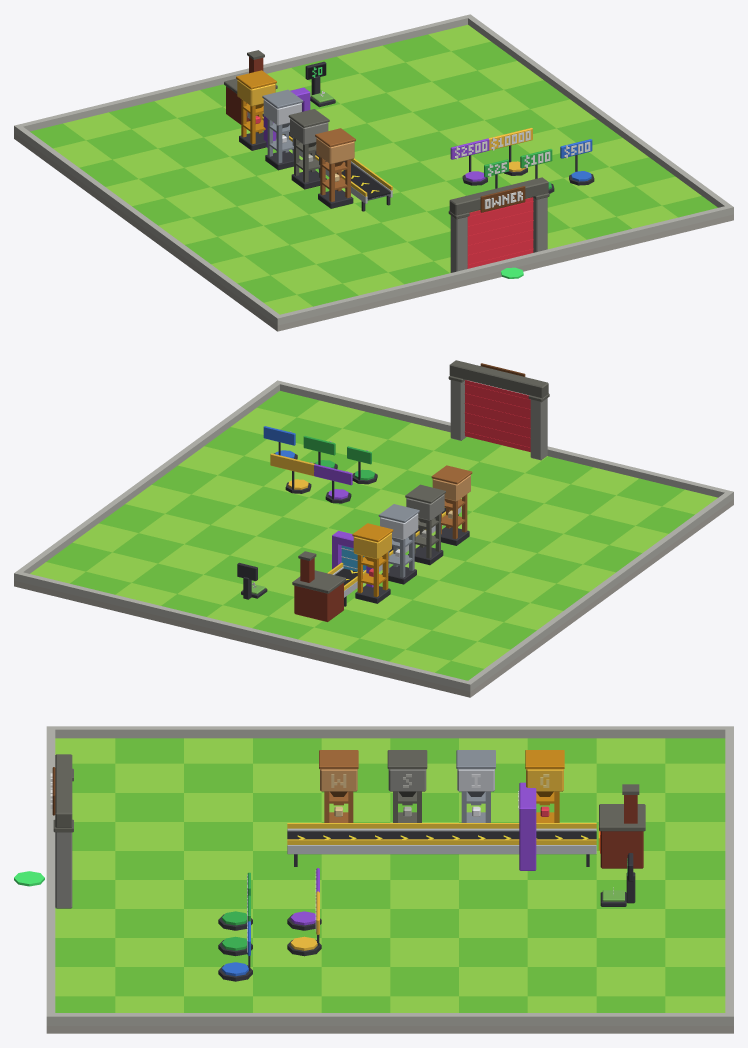
File: DropperTycoonPlot.fbx
The picture shows the model from 3 angles, top to bottom: view 1: azimuth 30°, elevation 25°; view 2: azimuth 150°, elevation 25°; view 3: azimuth 270°, elevation 25°; orthographic projection. The views are drawn at different scales.
Parts seen in each view (by area): view 1: DropperTycoonPlot, DropperTycoonPlot_Laser, DropperTycoonPlot_Dropper1, DropperTycoonPlot_Dropper2, DropperTycoonPlot_Dropper3, DropperTycoonPlot_Dropper4, DropperTycoonPlot_Button5, DropperTycoonPlot_Button4, DropperTycoonPlot_Button, DropperTycoonPlot_Belt, DropperTycoonPlot_Button3, DropperTycoonPlot_Collector (+1 smaller); view 2: DropperTycoonPlot, DropperTycoonPlot_Laser, DropperTycoonPlot_Dropper4, DropperTycoonPlot_Dropper2, DropperTycoonPlot_Dropper3, DropperTycoonPlot_Dropper1, DropperTycoonPlot_Button, DropperTycoonPlot_Button5, DropperTycoonPlot_Button4, DropperTycoonPlot_Collector, DropperTycoonPlot_Upgrader; view 3: DropperTycoonPlot, DropperTycoonPlot_Belt, DropperTycoonPlot_Dropper2, DropperTycoonPlot_Dropper1, DropperTycoonPlot_Dropper3, DropperTycoonPlot_Dropper4, DropperTycoonPlot_Button, DropperTycoonPlot_Upgrader, DropperTycoonPlot_Collector.
Boxes of the visible parts, box(x1,y1,x2,y2) form: DropperTycoonPlot: box(14, 14, 733, 331); DropperTycoonPlot_Laser: box(467, 197, 533, 268); DropperTycoonPlot_Dropper1: box(315, 128, 355, 208); DropperTycoonPlot_Dropper2: box(288, 109, 329, 189); DropperTycoonPlot_Dropper3: box(262, 89, 303, 170); DropperTycoonPlot_Dropper4: box(236, 70, 276, 150); DropperTycoonPlot_Button5: box(488, 128, 532, 175); DropperTycoonPlot_Button4: box(450, 138, 489, 185); DropperTycoonPlot_Button: box(311, 91, 591, 189); DropperTycoonPlot_Belt: box(262, 112, 390, 199); DropperTycoonPlot_Button3: box(560, 139, 594, 185); DropperTycoonPlot_Collector: box(305, 61, 335, 107); DropperTycoonPlot: box(14, 360, 733, 697); DropperTycoonPlot_Laser: box(341, 380, 530, 571); DropperTycoonPlot_Dropper4: box(352, 523, 393, 603); DropperTycoonPlot_Dropper2: box(405, 484, 445, 565); DropperTycoonPlot_Dropper3: box(378, 504, 419, 584); DropperTycoonPlot_Dropper1: box(431, 465, 472, 545); DropperTycoonPlot_Button: box(242, 450, 374, 594); DropperTycoonPlot_Button5: box(270, 453, 314, 493); DropperTycoonPlot_Button4: box(314, 464, 352, 503); DropperTycoonPlot_Collector: box(237, 562, 267, 599); DropperTycoonPlot_Upgrader: box(332, 530, 373, 587); DropperTycoonPlot: box(14, 726, 733, 1033); DropperTycoonPlot_Belt: box(287, 831, 596, 839); DropperTycoonPlot_Dropper2: box(387, 750, 427, 822); DropperTycoonPlot_Dropper1: box(319, 750, 358, 822); DropperTycoonPlot_Dropper3: box(456, 750, 495, 822); DropperTycoonPlot_Dropper4: box(525, 750, 564, 822); DropperTycoonPlot_Button: box(222, 887, 624, 976); DropperTycoonPlot_Upgrader: box(518, 782, 536, 870); DropperTycoonPlot_Collector: box(600, 853, 635, 906).
Size of the model in its own units: 80 by 13.85 by 83.8.
1 material, 1 textured.
